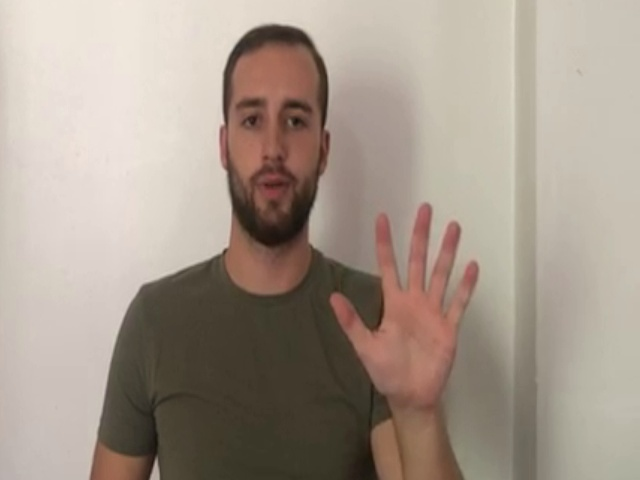Pet i Sedumnaeset: (325, 199, 484, 411)
